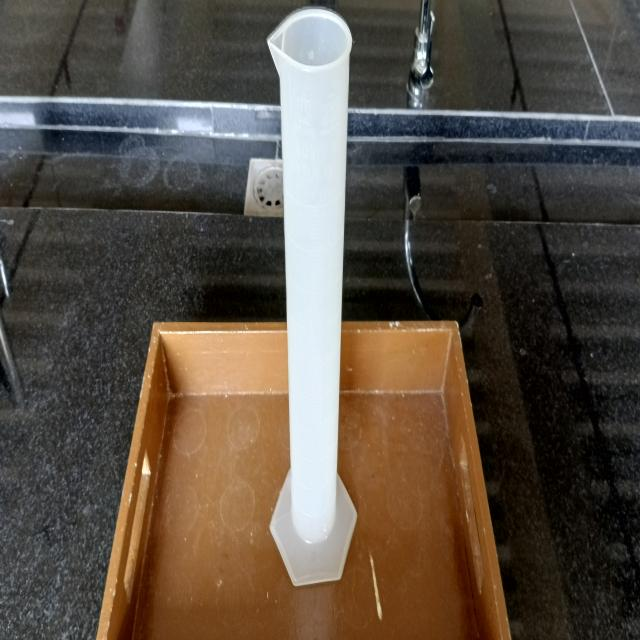graduated_cylinder: (260, 6, 366, 588)
